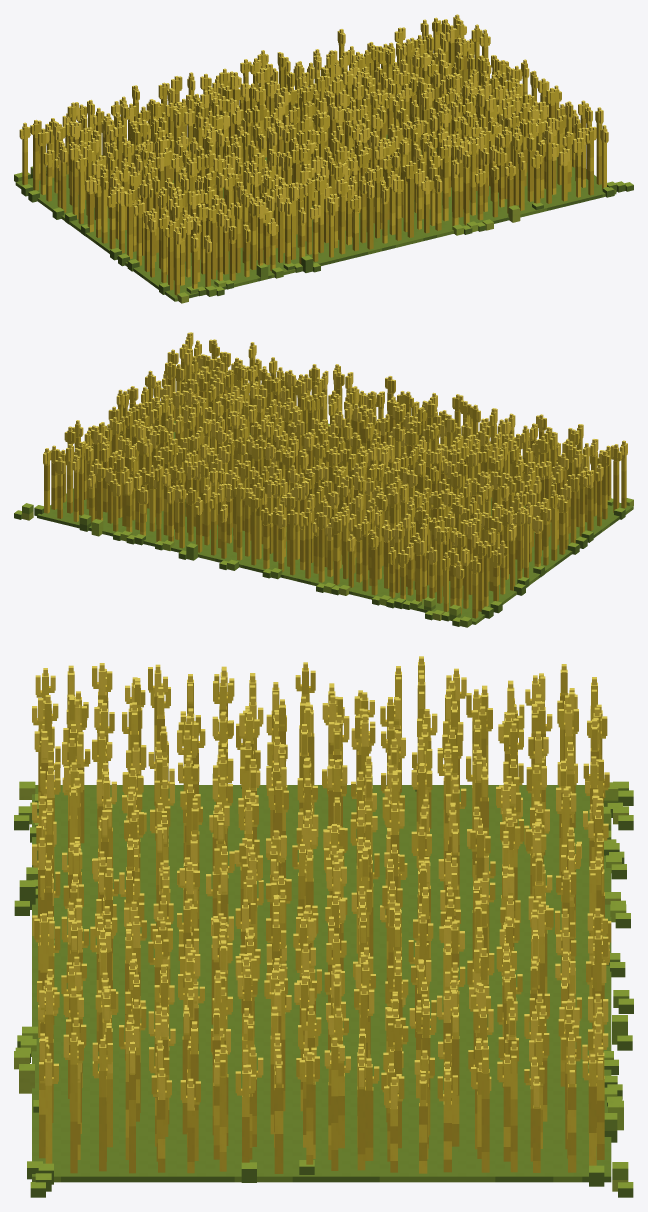
Rendered from SM_Blender_WheatField.glb.
3 renders of one model, top to bottom at view 1: azimuth 30°, elevation 25°; view 2: azimuth 150°, elevation 25°; view 3: azimuth 270°, elevation 25°, orthographic. The views are drawn at different scales.
Visible parts, largest first — view 1: SM_Blender_WheatField; view 2: SM_Blender_WheatField; view 3: SM_Blender_WheatField.
Part boxes in pixels (left/top/right/bottom): SM_Blender_WheatField: left=14, top=14, right=633, bottom=303; SM_Blender_WheatField: left=14, top=332, right=633, bottom=627; SM_Blender_WheatField: left=14, top=656, right=633, bottom=1197.
Size of the model in its own units: 5.72 by 0.9394 by 3.64.
1 material, 1 textured.
